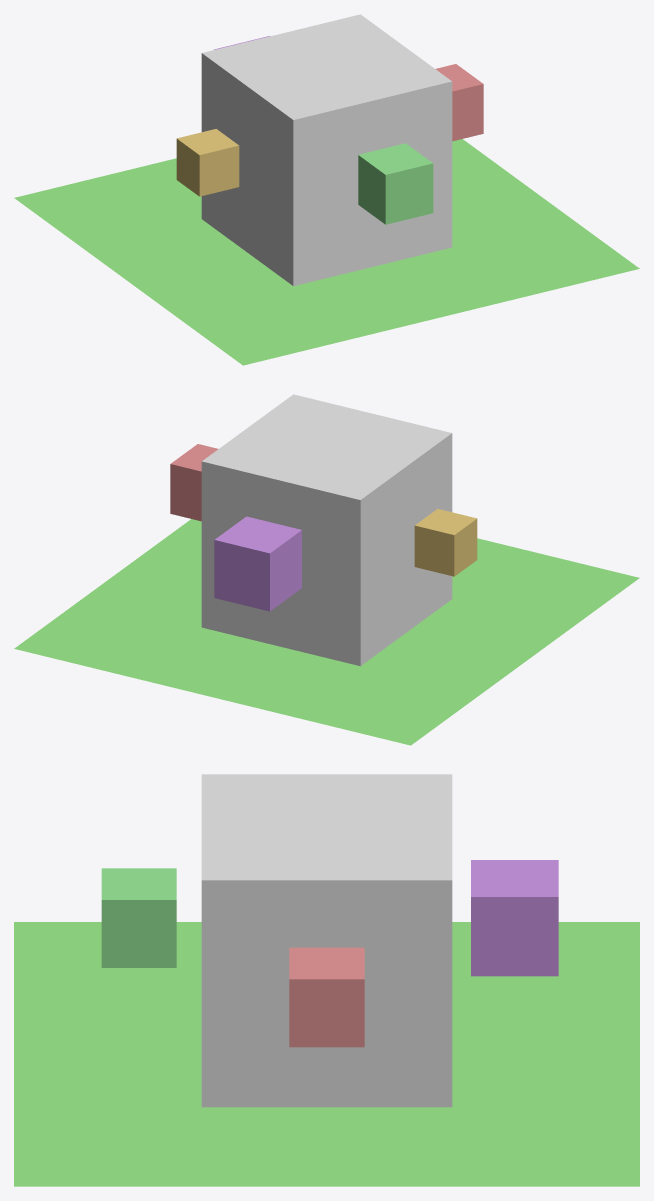
Rendered from club.glb.
3 renders of one model, top to bottom at view 1: azimuth 30°, elevation 25°; view 2: azimuth 150°, elevation 25°; view 3: azimuth 270°, elevation 25°, orthographic. The views are drawn at different scales.
Parts seen in each view (by area): view 1: Terrain, MainStructure, ContenidoZone, HerramientasZone, ComunicacionZone; view 2: Terrain, MainStructure, EducacionZone, HerramientasZone, ComunicacionZone; view 3: Terrain, MainStructure, EducacionZone, ComunicacionZone, ContenidoZone.
Boxes of the visible parts, box(x1,y1,x2,y2) form: Terrain: box(14, 139, 639, 365); MainStructure: box(201, 14, 452, 286); ContenidoZone: box(358, 143, 433, 224); HerramientasZone: box(176, 129, 239, 196); ComunicacionZone: box(435, 64, 483, 141); Terrain: box(14, 519, 639, 745); MainStructure: box(201, 394, 452, 666); EducacionZone: box(214, 516, 301, 611); HerramientasZone: box(414, 509, 477, 576); ComunicacionZone: box(170, 444, 218, 521); Terrain: box(14, 922, 639, 1186); MainStructure: box(201, 774, 452, 1107); EducacionZone: box(471, 860, 558, 976); ComunicacionZone: box(289, 947, 364, 1047); ContenidoZone: box(101, 868, 176, 967).
Size of the model in its own units: 50 by 20 by 50.
